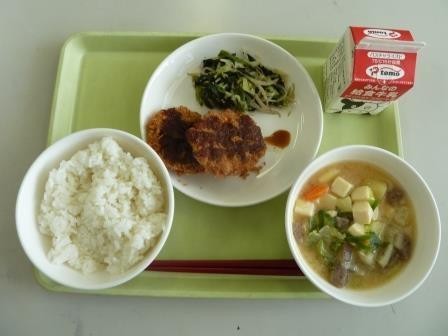Milk: (323, 23, 430, 119)
Rice: (12, 131, 173, 282)
Soups: (289, 150, 447, 296)
cutlet: (136, 103, 281, 181)
salad with sauce: (190, 42, 304, 109)
